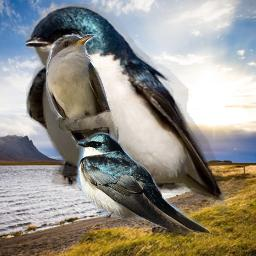Cuckoo: (46, 34, 155, 215)
Swallow: (26, 4, 227, 217), (76, 132, 211, 237)
